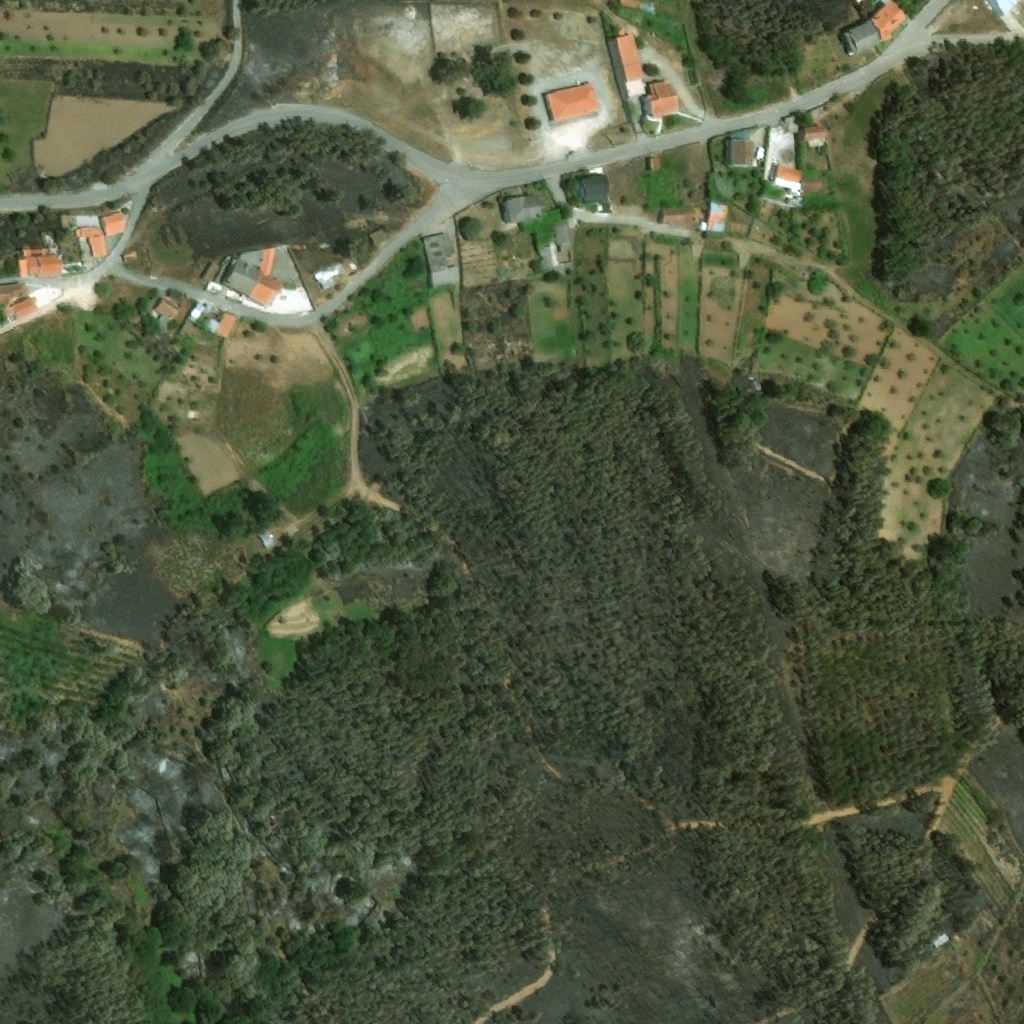0 no-damage: (219, 248, 286, 308), (838, 0, 907, 58), (72, 213, 129, 259), (609, 29, 646, 99), (544, 83, 602, 124), (420, 233, 459, 288), (500, 194, 548, 226), (638, 80, 679, 116), (0, 284, 39, 321), (17, 248, 63, 278), (576, 174, 612, 205), (770, 163, 805, 193), (700, 202, 731, 235), (204, 312, 237, 339), (154, 300, 180, 331), (729, 139, 755, 167), (660, 208, 695, 227), (552, 220, 572, 253), (803, 126, 830, 145), (187, 301, 207, 325), (647, 156, 660, 172)
1 minor-damage: (368, 228, 391, 248)
3 destroyed: (64, 256, 81, 275)
4 un-classified: (618, 0, 655, 14), (992, 0, 1023, 15)
